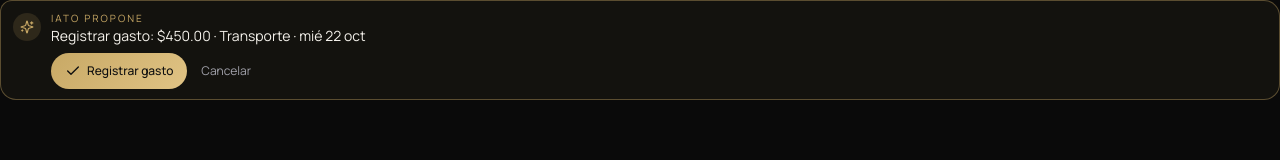
Test: tarjeta de acción › nada se ejecuta hasta Confirmar; al confirmar manda la acción al servidor y muestra el resultado
Check: the text "Registrar gasto: $450.00 · Transporte · mié 22 oct" is shown, box [51,26,366,45]
Click the button "Registrar gasto" at (119, 71), box [51,53,187,89]
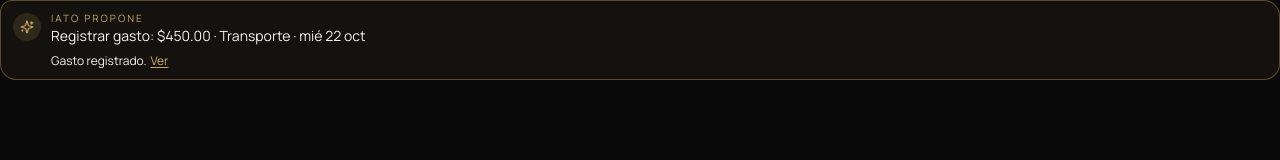
Check: the message shows "Gasto registrado.", box [51,52,146,69]
